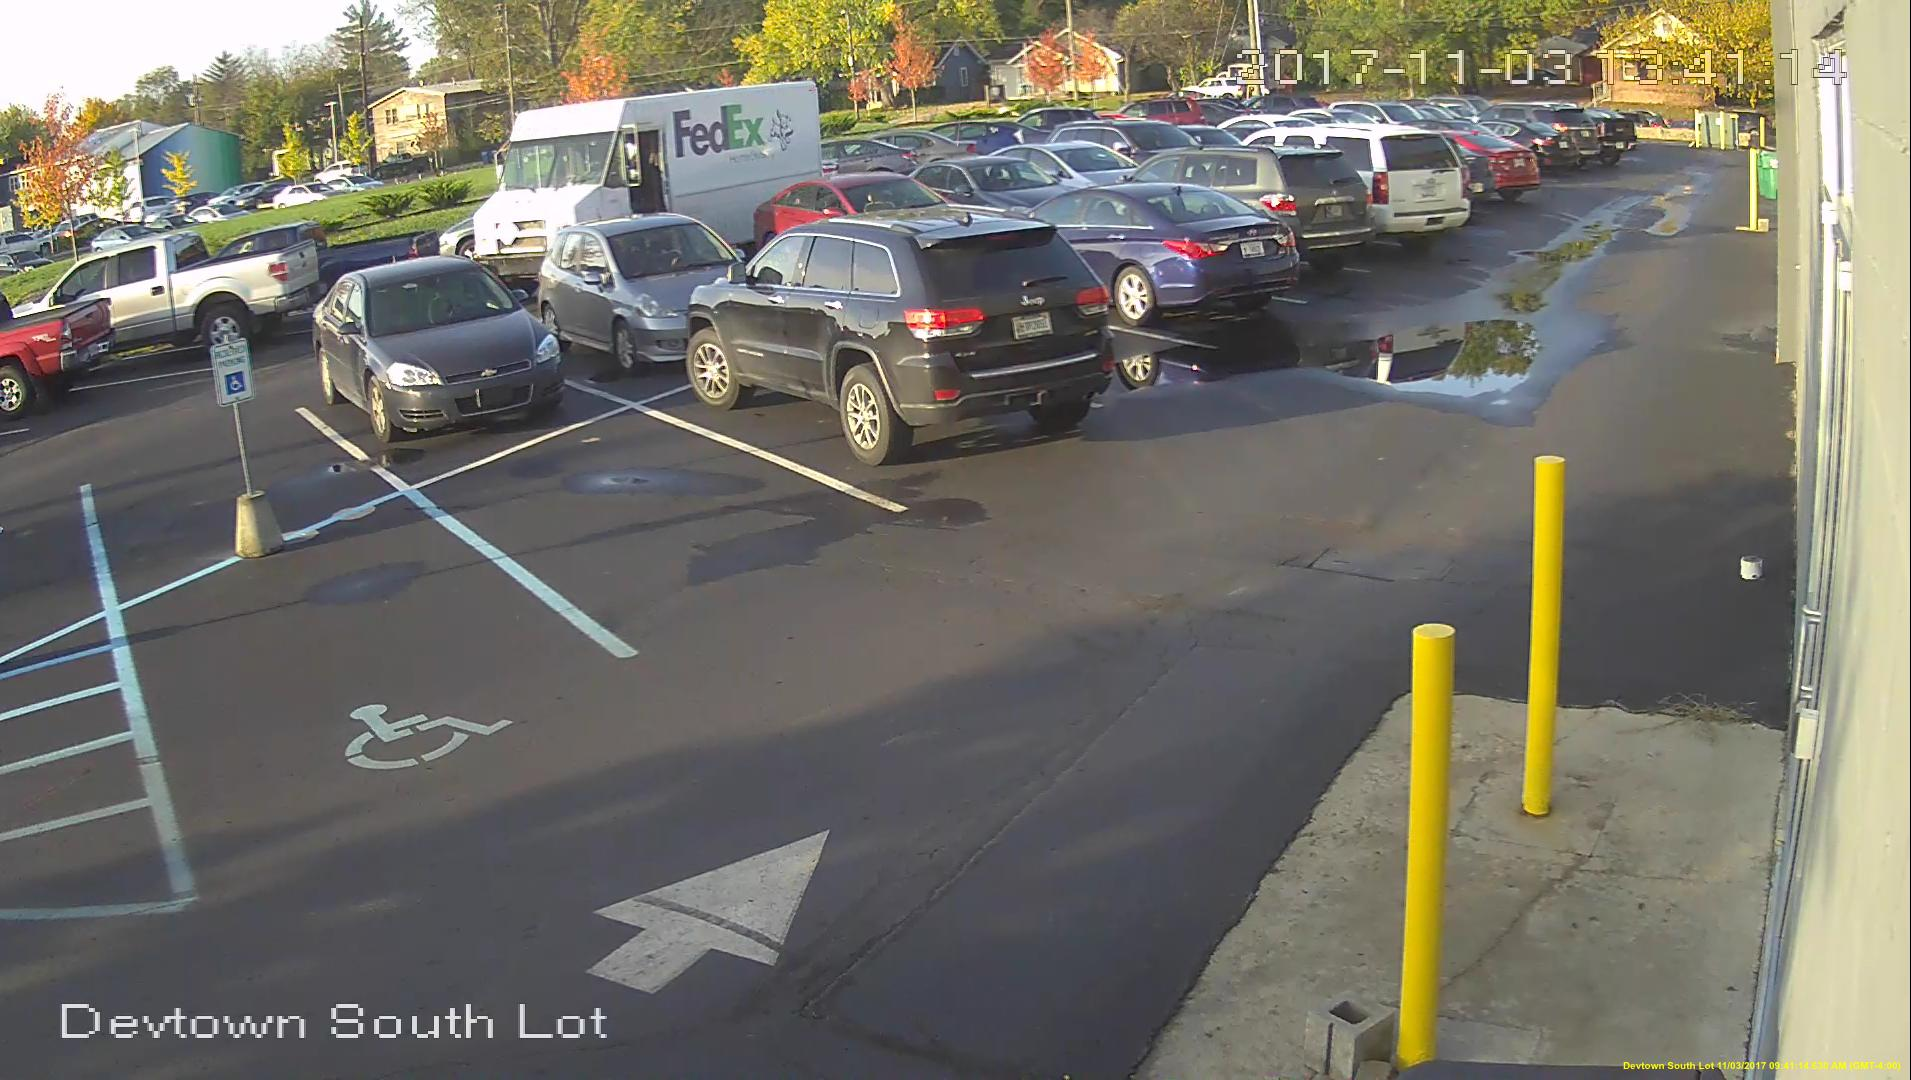fedex_truck: (470, 75, 827, 266)
